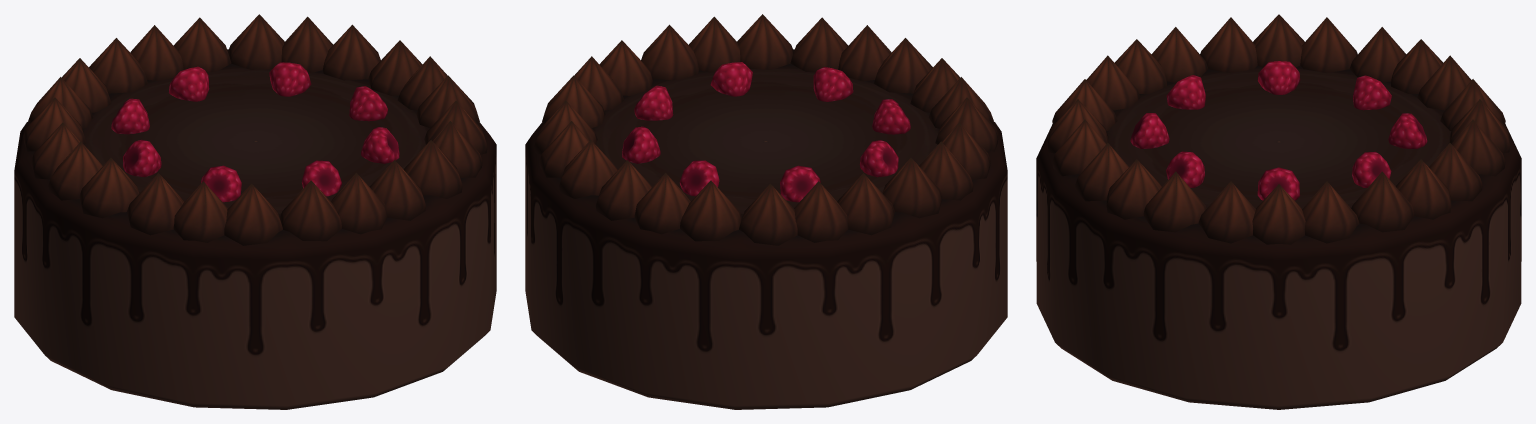
File: 008-Cake03.FBX
The picture shows the model from 3 angles, left to right: view 1: azimuth 30°, elevation 25°; view 2: azimuth 150°, elevation 25°; view 3: azimuth 270°, elevation 25°; orthographic projection.
Visible parts, largest first — view 1: 008-Cake03; view 2: 008-Cake03; view 3: 008-Cake03.
Part boxes in pixels (x1=…): 008-Cake03: x1=14, y1=14, x2=496, y2=409; 008-Cake03: x1=525, y1=14, x2=1007, y2=409; 008-Cake03: x1=1036, y1=14, x2=1521, y2=409.
Bounding box in the file's own units: 32.57 × 15.67 × 32.57.
